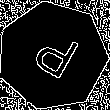P_SW: (24, 25, 81, 87)
